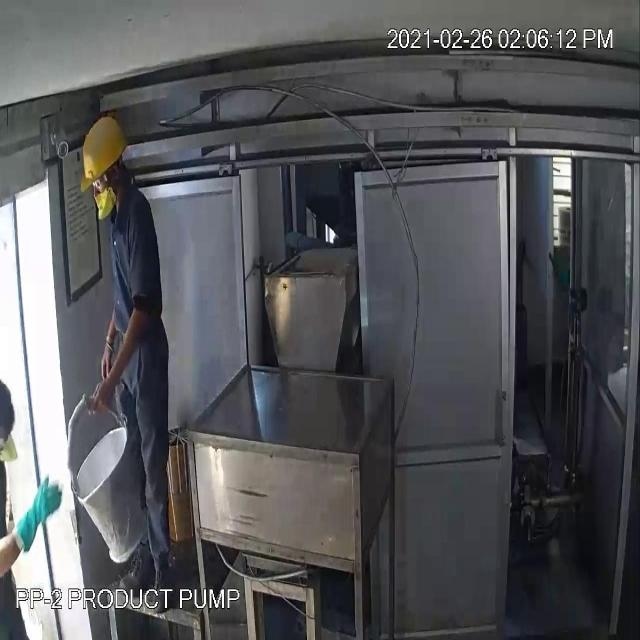helmet: (79, 115, 127, 193)
